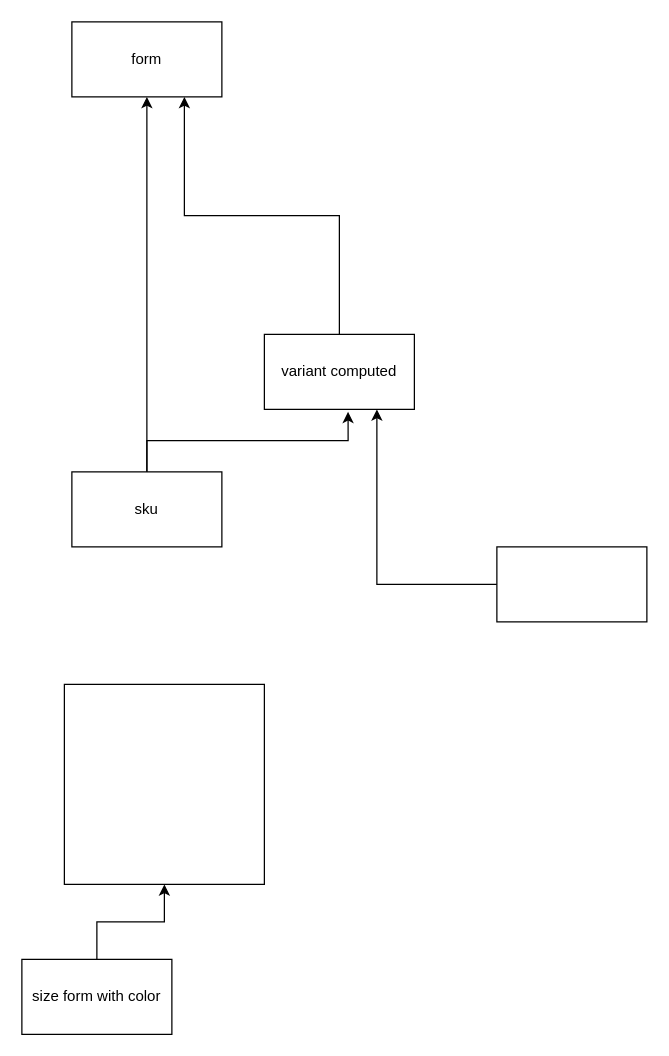
This 669x1056 diagram has some shape labels left out. Here are the shapes that lost their labels. From the top down, the centre of each, then its label:
At (x=571, y=584): "size form".
At (x=163, y=783): "main form".
